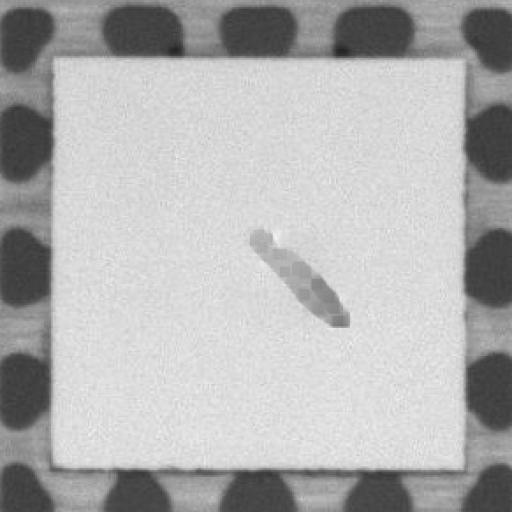DIE_INK: (235, 214, 358, 338)
